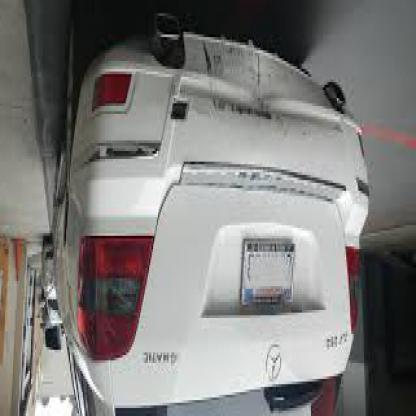dent: (236, 57, 280, 123)
